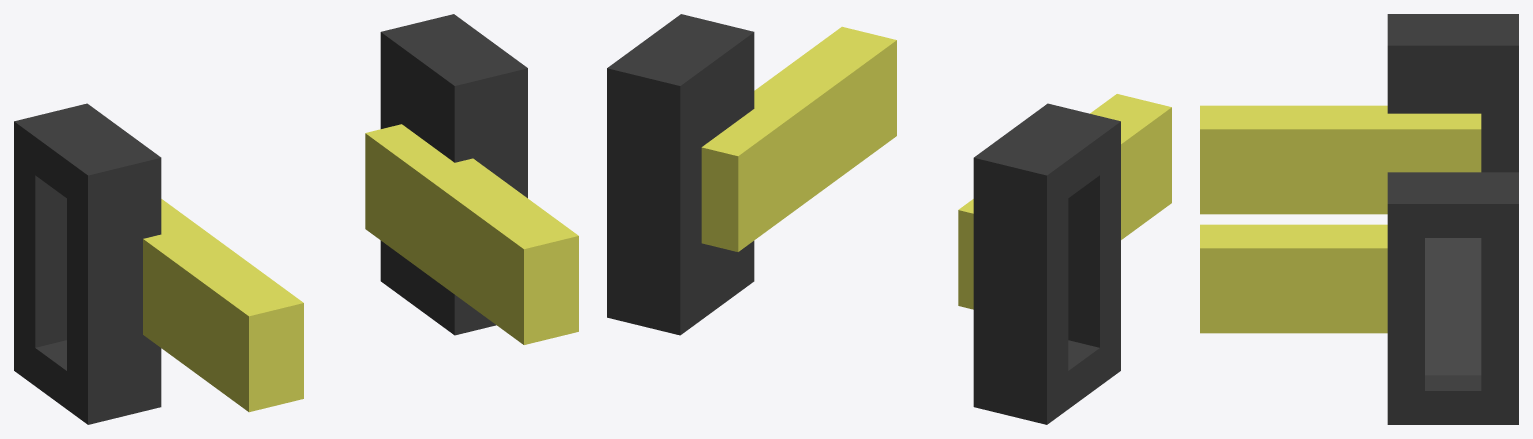
The model's file is pooper legs.obj.
The picture shows the model from 3 angles, left to right: view 1: azimuth 30°, elevation 25°; view 2: azimuth 150°, elevation 25°; view 3: azimuth 270°, elevation 25°; orthographic projection. The views are drawn at different scales.
Size of the model in its own units: 24 by 13 by 17.
Materials: 1 (1 with a texture image).
